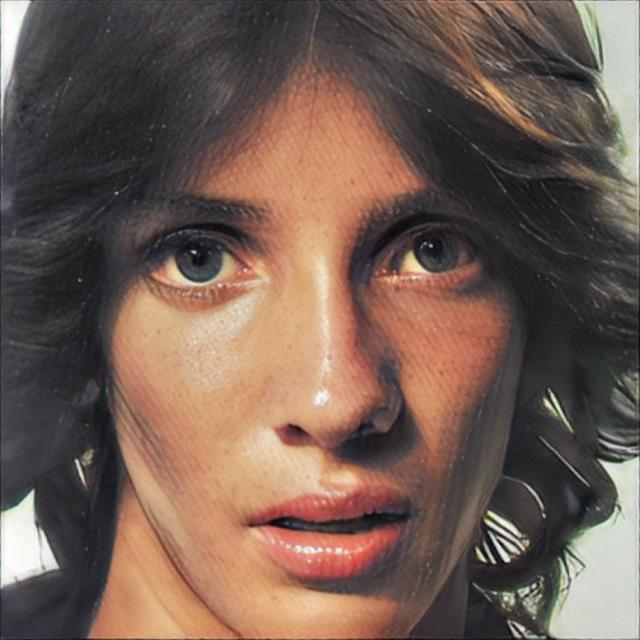surprise: (97, 44, 534, 640)
